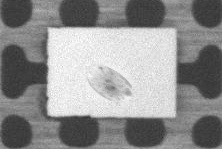DIE_INK: (83, 61, 133, 103)
